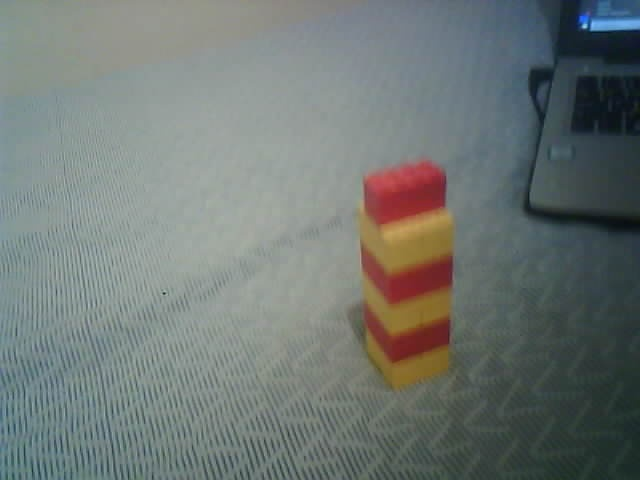lego: (356, 158, 455, 391)
